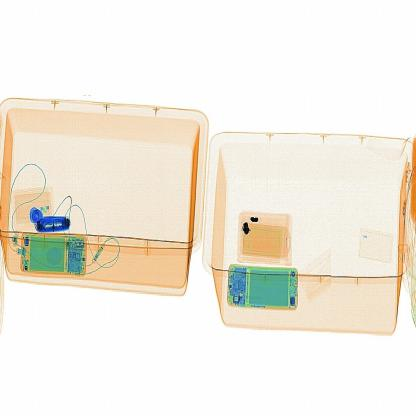scissors: (30, 205, 79, 238)
